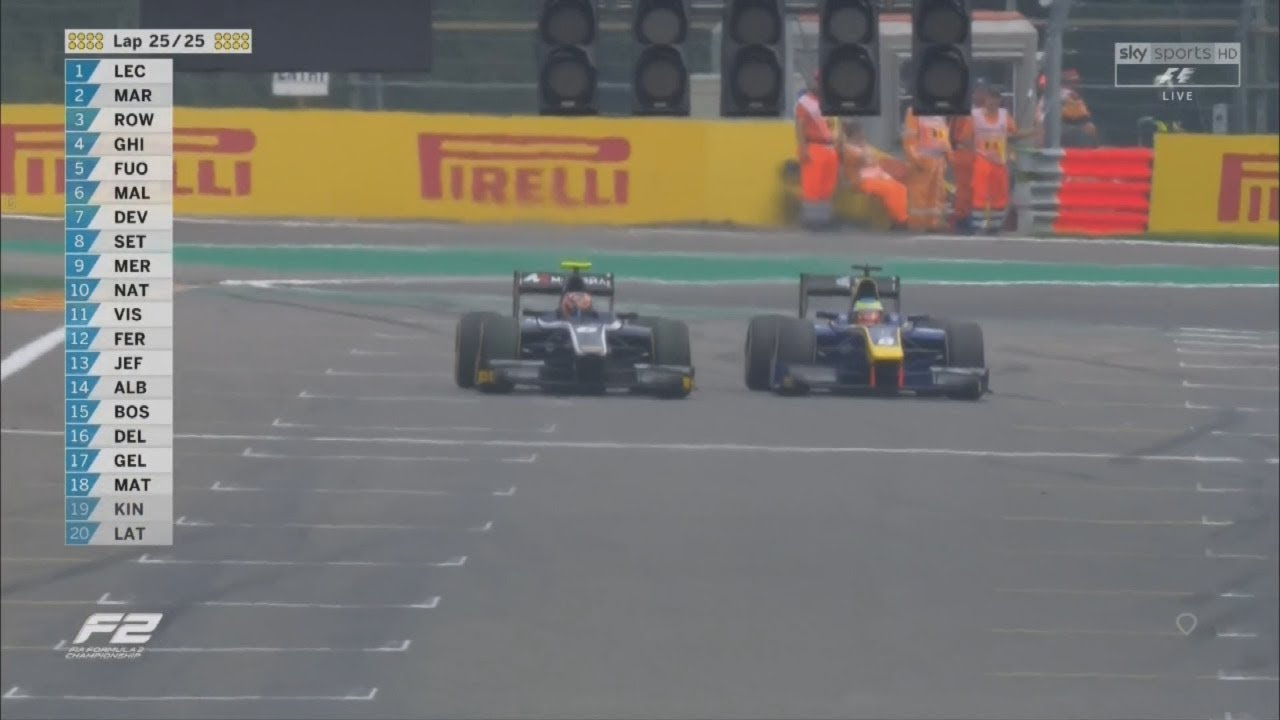race car: (739, 259, 997, 405), (449, 258, 699, 403)
